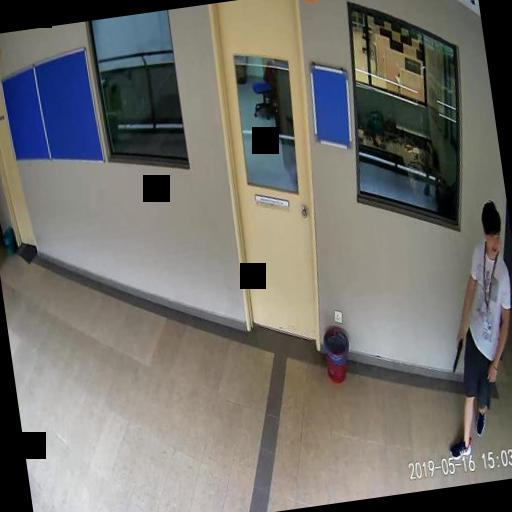Handgun: (445, 328, 466, 371)
